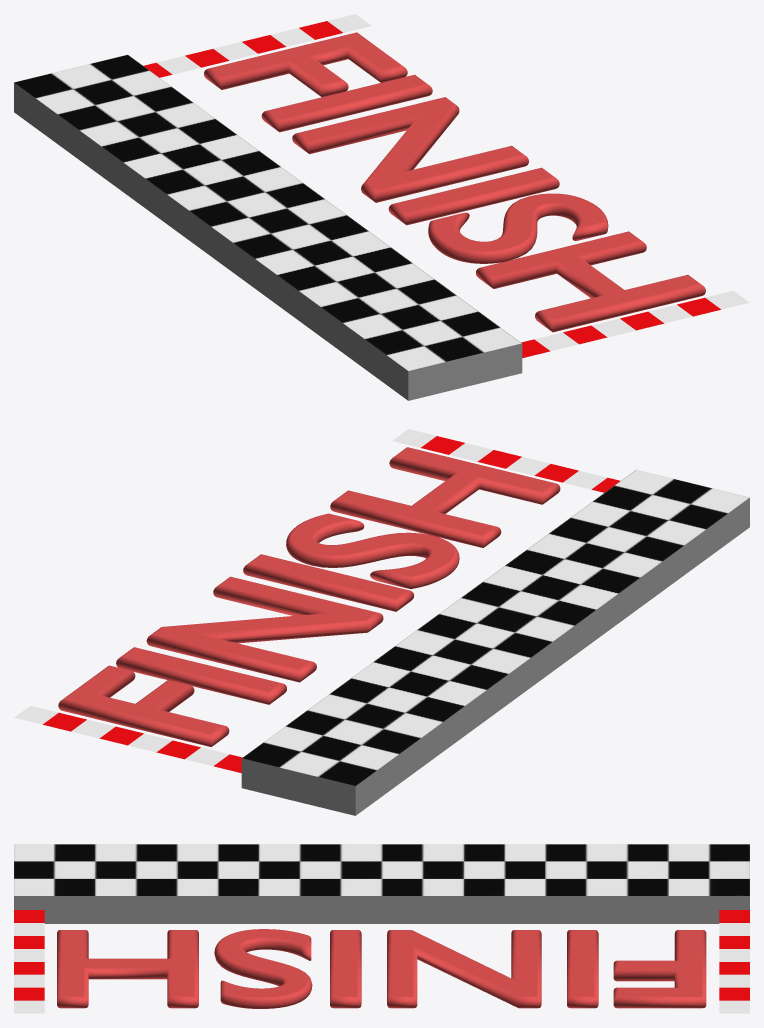
3 views of the same model, one above another, from view 1: azimuth 30°, elevation 25°; view 2: azimuth 150°, elevation 25°; view 3: azimuth 270°, elevation 25° (orthographic). The views are drawn at different scales.
Parts seen in each view (by area): view 1: Cube, finish, Plane, Plane.001; view 2: Cube, finish, Plane.001, Plane; view 3: Cube, finish, Plane.001, Plane.
Part boxes in pixels (bbox=[...]): Cube: bbox=[14, 54, 522, 400]; finish: bbox=[204, 32, 705, 332]; Plane: bbox=[521, 290, 749, 357]; Plane.001: bbox=[143, 14, 371, 77]; Cube: bbox=[241, 469, 749, 815]; finish: bbox=[58, 447, 560, 746]; Plane.001: bbox=[14, 705, 242, 772]; Plane: bbox=[392, 429, 620, 492]; Cube: bbox=[14, 844, 749, 923]; finish: bbox=[57, 929, 706, 1008]; Plane.001: bbox=[719, 910, 749, 1013]; Plane: bbox=[14, 910, 44, 1013].
Bounding box in the file's own units: 0.4001 × 0.8001 × 0.0333.
Materials: 6 (1 with a texture image).
